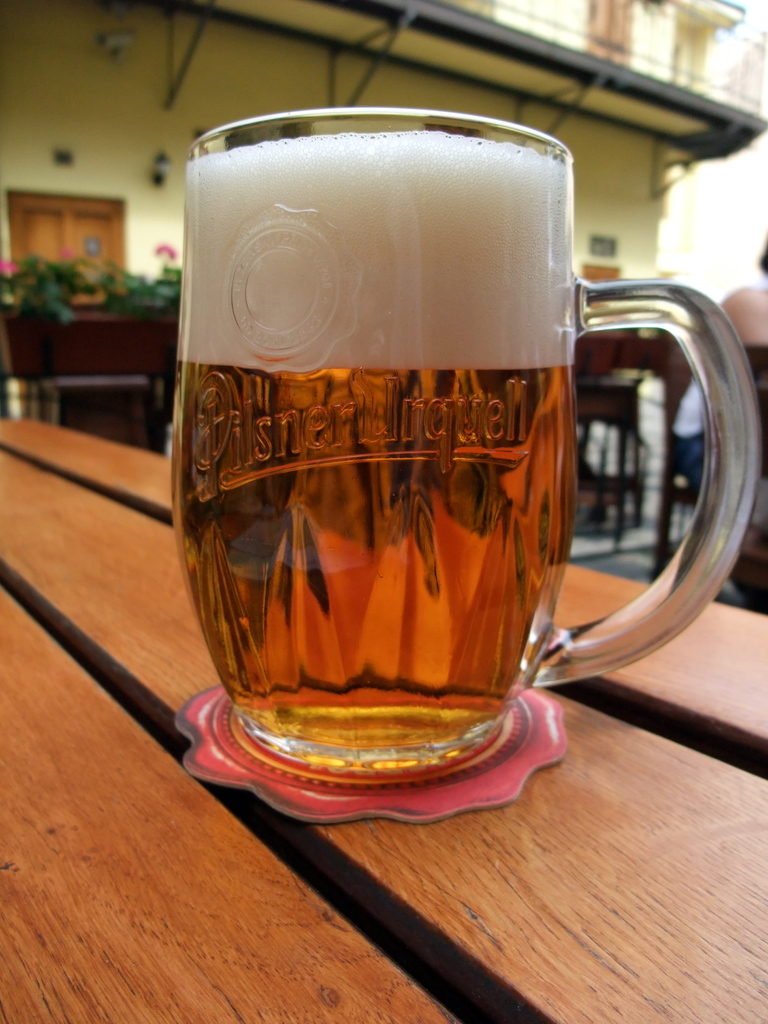Beer: (139, 87, 764, 830)
